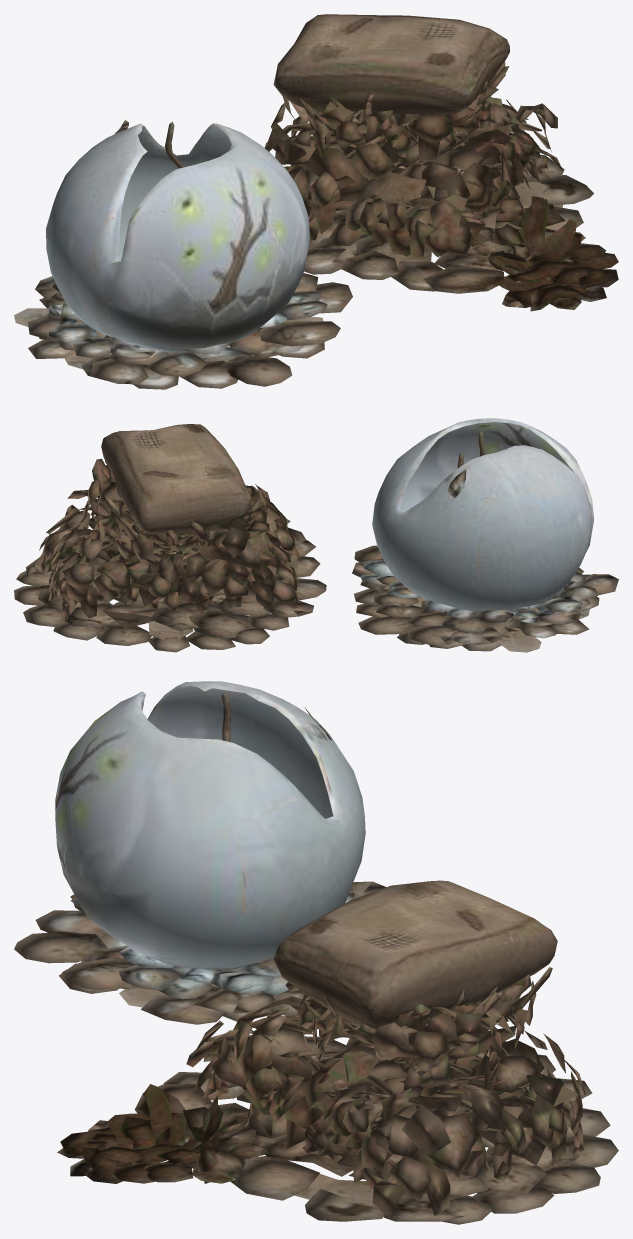
File: jd_redoma.glb
3 renders of one model, top to bottom at view 1: azimuth 30°, elevation 25°; view 2: azimuth 150°, elevation 25°; view 3: azimuth 270°, elevation 25°, orthographic. The views are drawn at different scales.
Visible parts, largest first — view 1: mesh_node.003; view 2: mesh_node.003; view 3: mesh_node.003.
Boxes of the visible parts, <box> form: mesh_node.003: <box>14,14,618,389</box>; mesh_node.003: <box>14,418,618,652</box>; mesh_node.003: <box>14,681,618,1224</box>.
Bounding box in the file's own units: 0.4918 × 0.1742 × 0.3574.
Materials: 1 (1 with a texture image).
